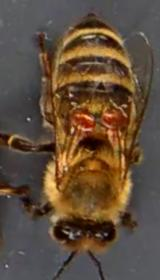varroa_mite: (101, 99, 128, 133), (67, 104, 97, 134)
